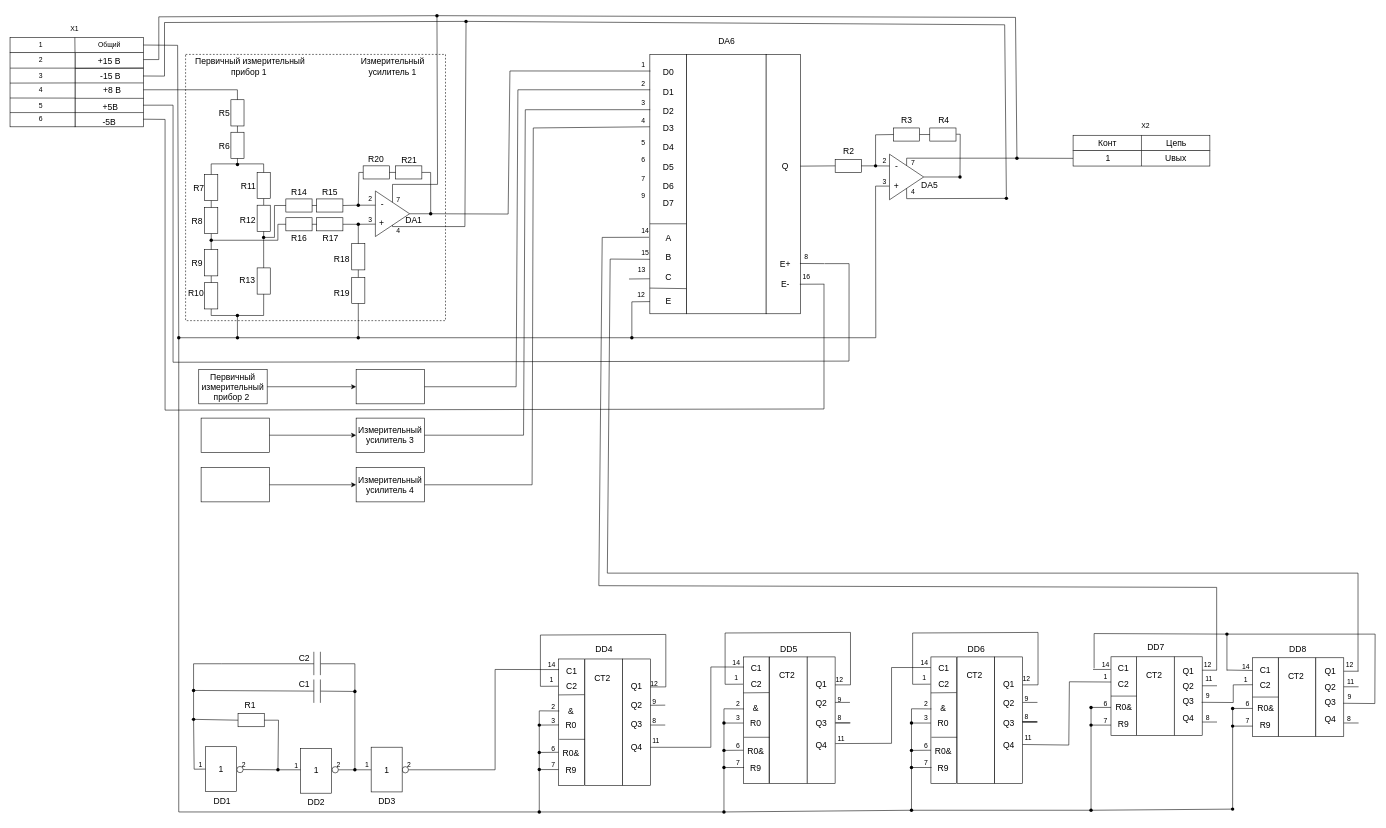
The diagram is 1386 pixels wide and 828 high, and some of its shapes have lost their labels. Each missing label, with the centre of its shape:
"DC" belongs at (x=726, y=184).
"Измерительный усилитель 2" belongs at (x=390, y=386).
"Первичный измерительный прибор 3" belongs at (x=235, y=435).
"Первичный измерительный прибор 4" belongs at (x=235, y=484).
